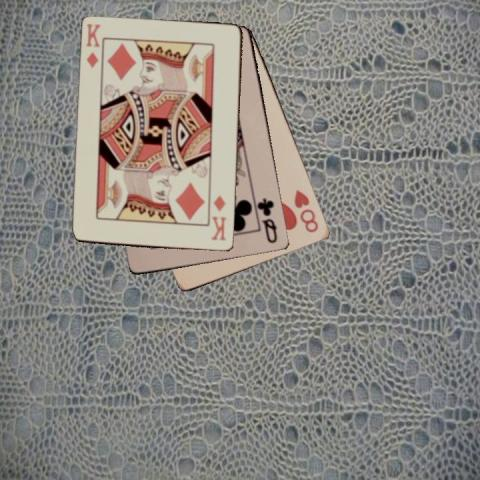8h: (291, 186, 321, 234)
Kd: (208, 192, 228, 243), (83, 21, 103, 70)
Qc: (255, 196, 280, 246)
